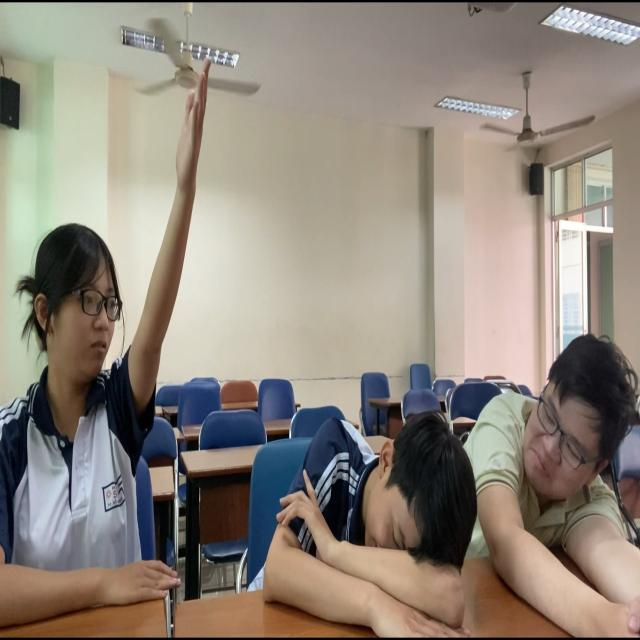raise_hand: (1, 55, 214, 628)
sleep: (279, 398, 476, 636)
